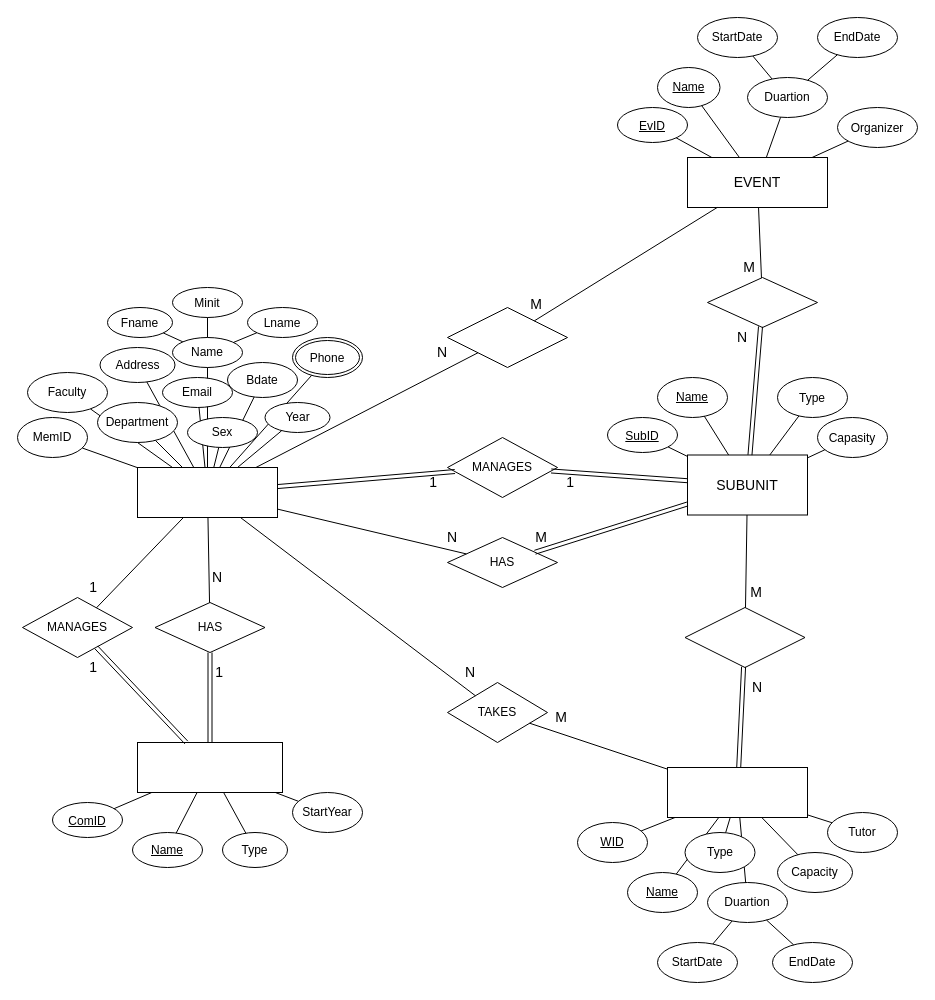
The diagram is 935 pixels wide and 1000 high, and some of its shapes have lost their labels. Each missing label, with the centre of its shape:
ATTENDS: point (507, 337)
COMMITTEE: point (209, 767)
MEMBER: point (207, 492)
Organizes: point (744, 637)
ORGANİZES: point (762, 302)
WORKSHOP: point (737, 792)
